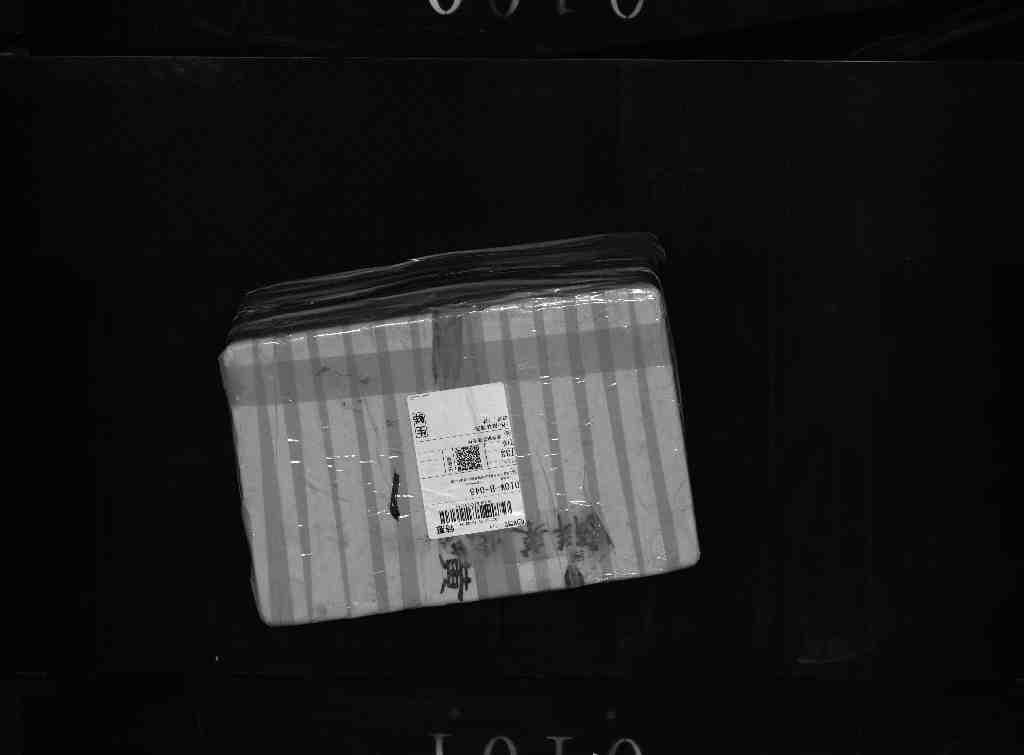box: (218, 236, 720, 633)
